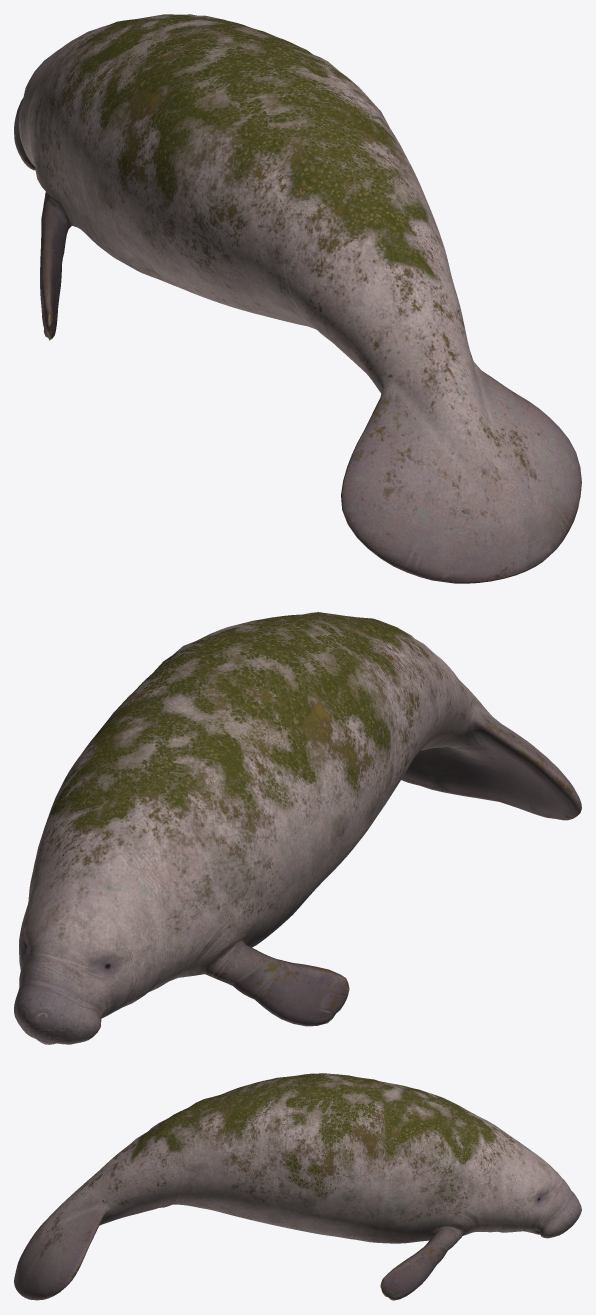
File: manatee.glb
3 views of the same model, one above another, from view 1: azimuth 30°, elevation 25°; view 2: azimuth 150°, elevation 25°; view 3: azimuth 270°, elevation 25° (orthographic). The views are drawn at different scales.
Parts seen in each view (by area): view 1: lamantin_low:polySurface1; view 2: lamantin_low:polySurface1; view 3: lamantin_low:polySurface1.
Part boxes in pixels (x1=…): lamantin_low:polySurface1: x1=14, y1=14, x2=581, y2=583; lamantin_low:polySurface1: x1=14, y1=612, x2=581, y2=1044; lamantin_low:polySurface1: x1=14, y1=1073, x2=581, y2=1300.
Size of the model in its own units: 1.48 by 1.59 by 4.03.
1 material, 1 textured.
